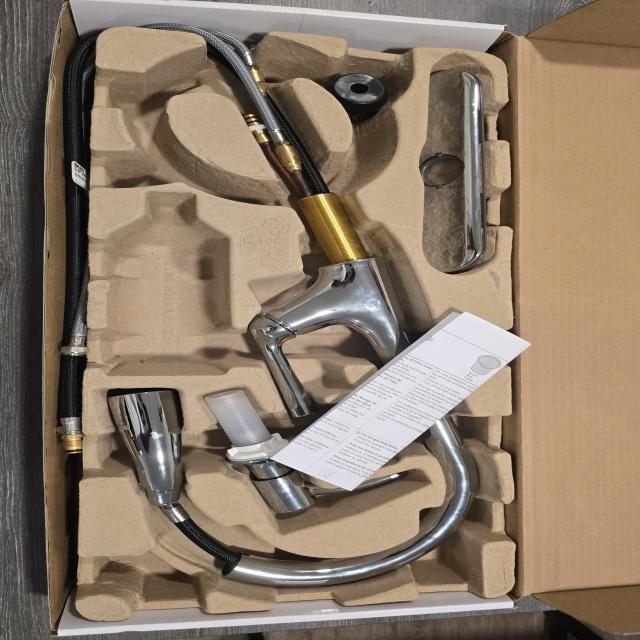1o: (110, 28, 480, 588)
2o: (205, 388, 402, 517)
3m: (105, 192, 233, 375)
4: (418, 71, 484, 275)
5: (327, 73, 392, 125)
6m: (106, 53, 211, 124)
7m: (104, 124, 239, 197)
8: (269, 310, 533, 492)
